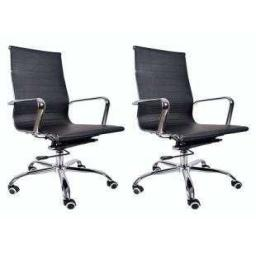Chair: (9, 45, 122, 207), (132, 45, 245, 207)
